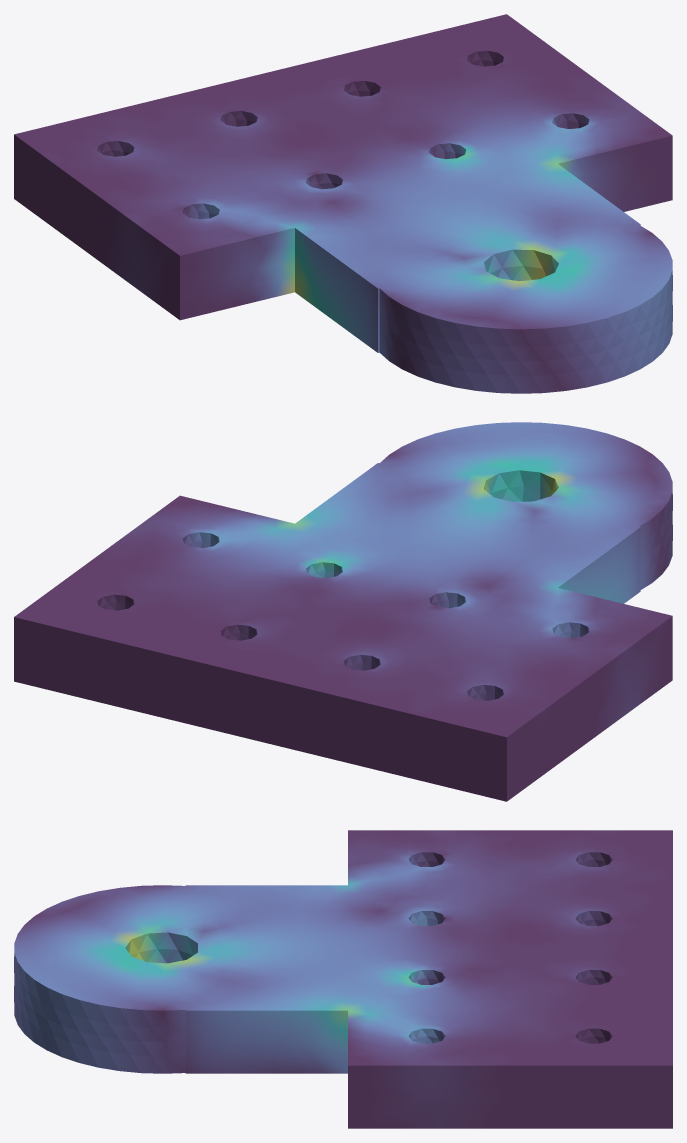
The model's file is CAD_W-CHUTE-FIT.glb.
3 renders of one model, top to bottom at view 1: azimuth 30°, elevation 25°; view 2: azimuth 150°, elevation 25°; view 3: azimuth 270°, elevation 25°, orthographic. The views are drawn at different scales.
Parts seen in each view (by area): view 1: geometry_0; view 2: geometry_0; view 3: geometry_0.
Part boxes in pixels (bbox=[...]): geometry_0: bbox=[14, 14, 672, 393]; geometry_0: bbox=[14, 422, 672, 801]; geometry_0: bbox=[14, 830, 672, 1128].
Bounding box in the file's own units: 0.12 × 0.015 × 0.142.
